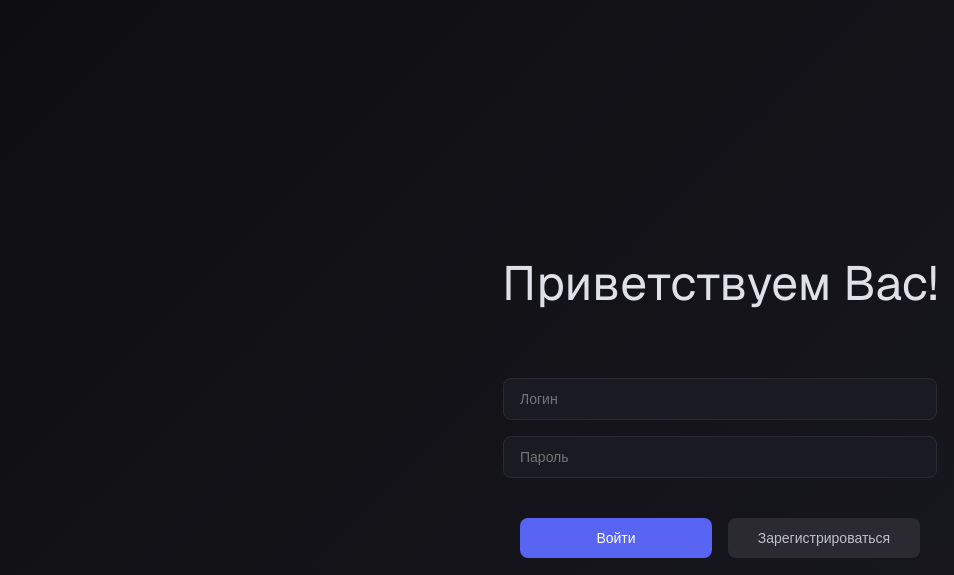
Test: Auth_Page › disables inputs while loading
This screenshot has width=954, height=575.
Type "testuser" into the field with placeholder "Логин". click: (720, 399)
box: [503,378,937,420]
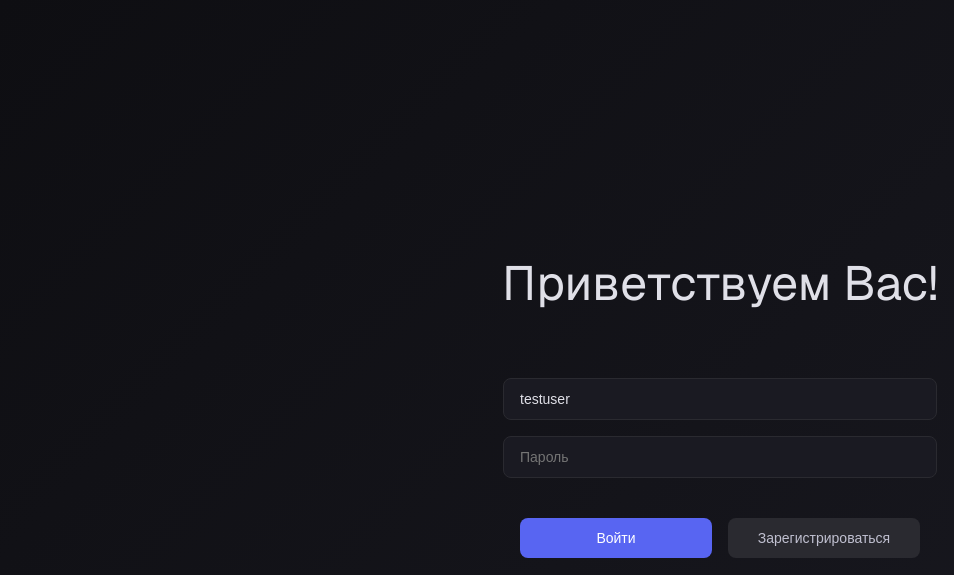
Type "password" into the password field with placeholder "Пароль". click: (720, 457)
box: [503,436,937,478]
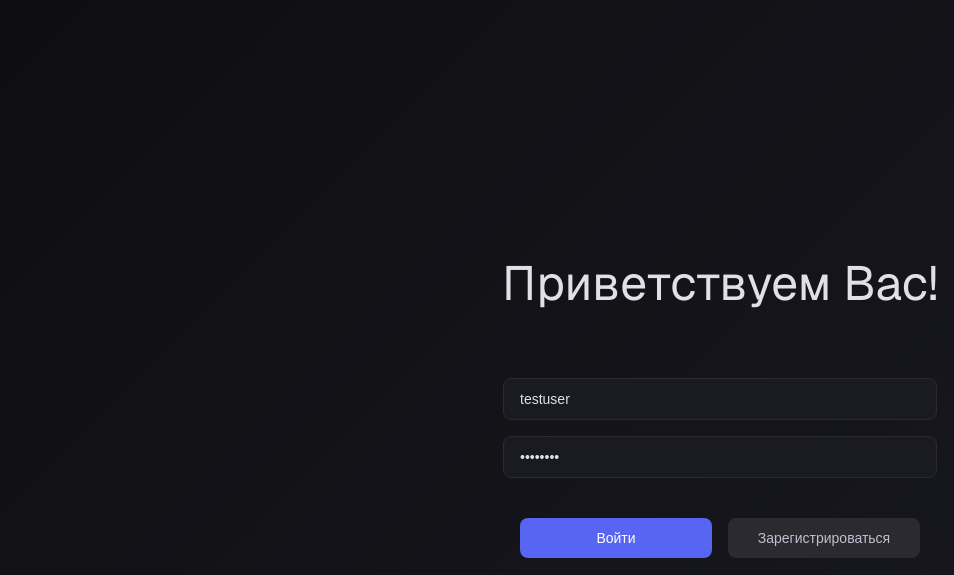
Click the button "Войти". click: (616, 538)
box: [520,518,712,558]
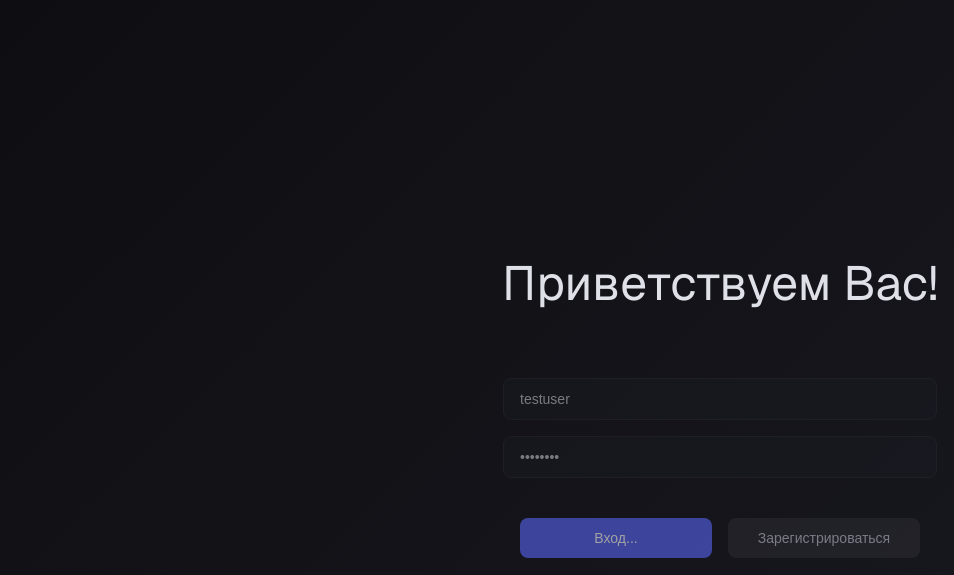
Result: the field with placeholder "Логин" is disabled at [503,378,937,420]
Result: the password field with placeholder "Пароль" is disabled at [503,436,937,478]
